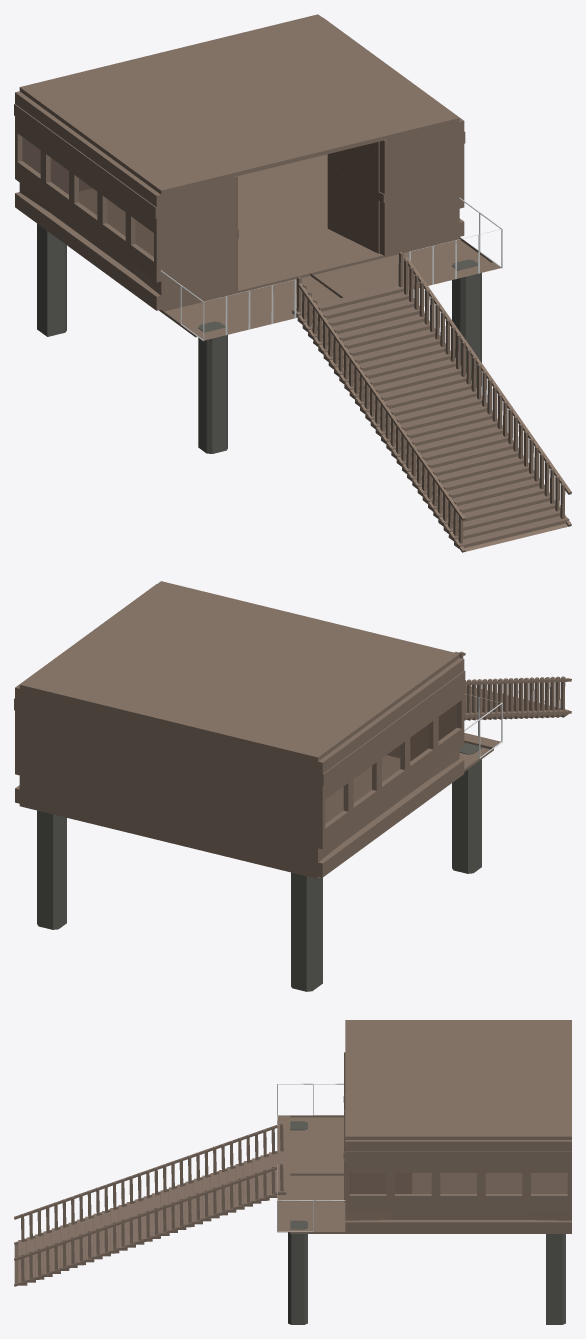
File: minCasa.glb
The picture shows the model from 3 angles, top to bottom: view 1: azimuth 30°, elevation 25°; view 2: azimuth 150°, elevation 25°; view 3: azimuth 270°, elevation 25°; orthographic projection. The views are drawn at different scales.
Parts seen in each view (by area): view 1: AB; view 2: AB; view 3: AB.
Boxes of the visible parts, x1,y1,x2,y2 form: AB: [14, 14, 571, 552]; AB: [14, 581, 571, 991]; AB: [14, 1020, 571, 1324].
Bounding box in the file's own units: 9.59 × 7.13 × 18.69.
